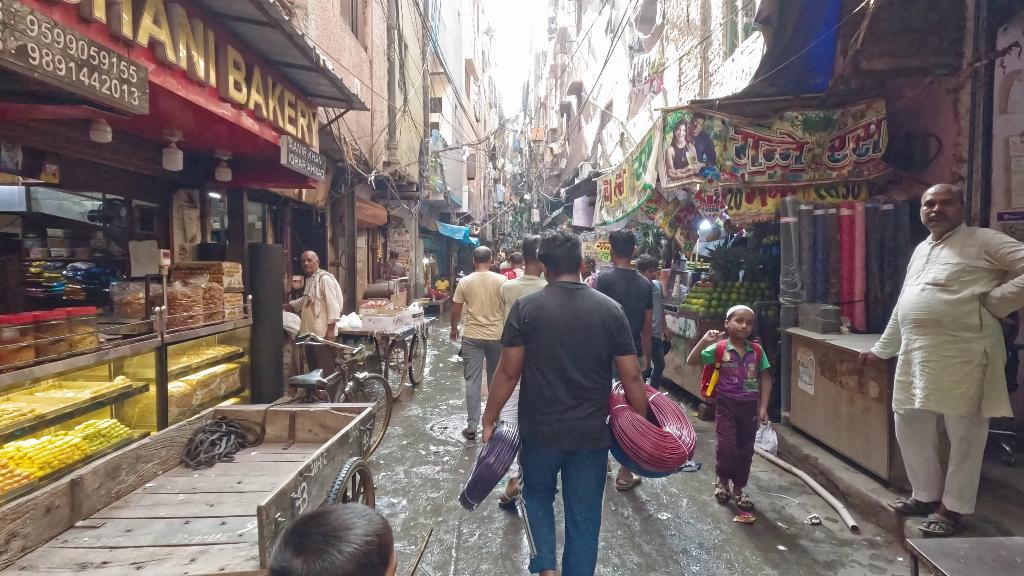garbage: (756, 417, 781, 456), (338, 311, 364, 330)
